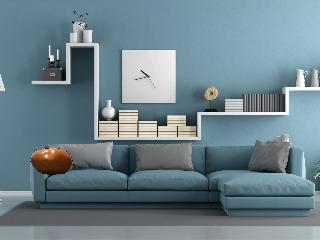potato: (29, 146, 73, 177)
